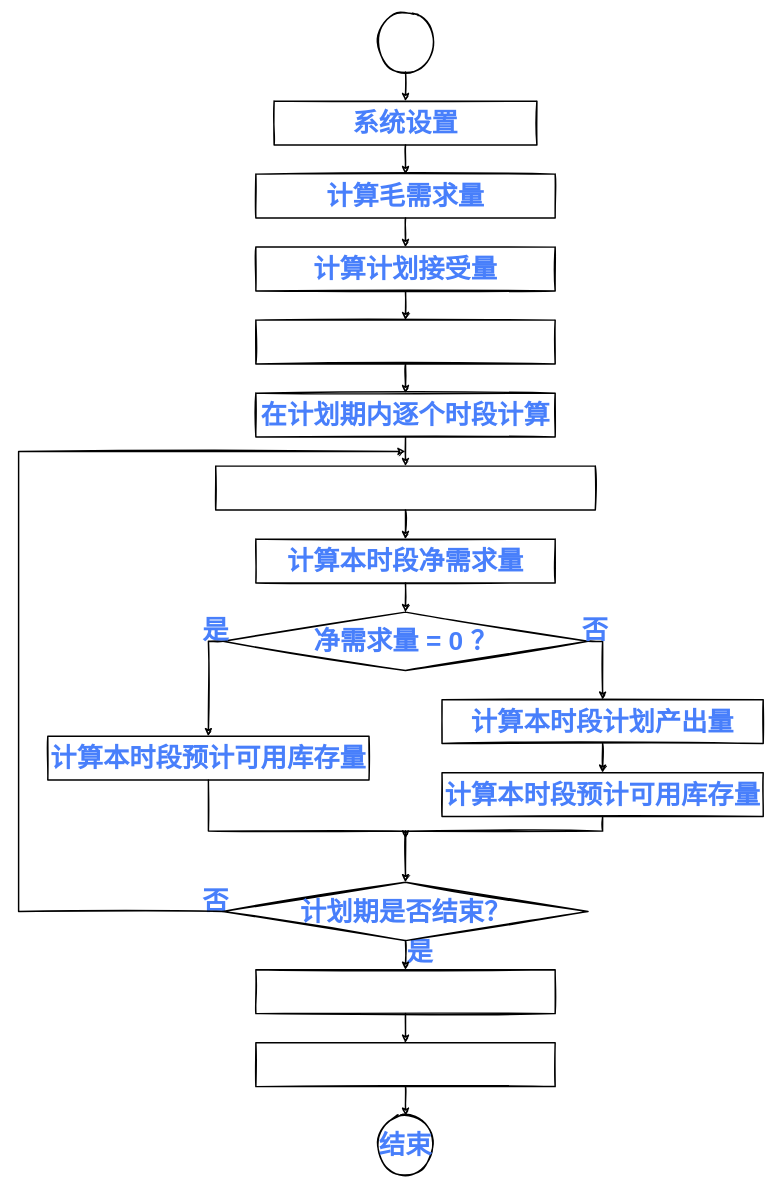
This 776x1187 diagram has some shape labels left out. Each missing label, with the centre of its shape:
开始: (x=405, y=42)
计算可供销售量: (x=405, y=1064)
计算当期预计可用库存量: (x=405, y=341)
计算本时段预计可用库存量初值: (x=405, y=487)
计算计划投入量: (x=405, y=991)
